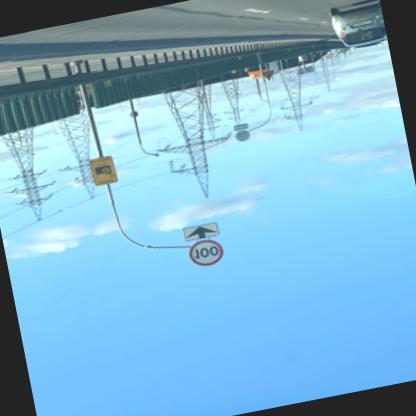speedlimit: (185, 238, 224, 270)
